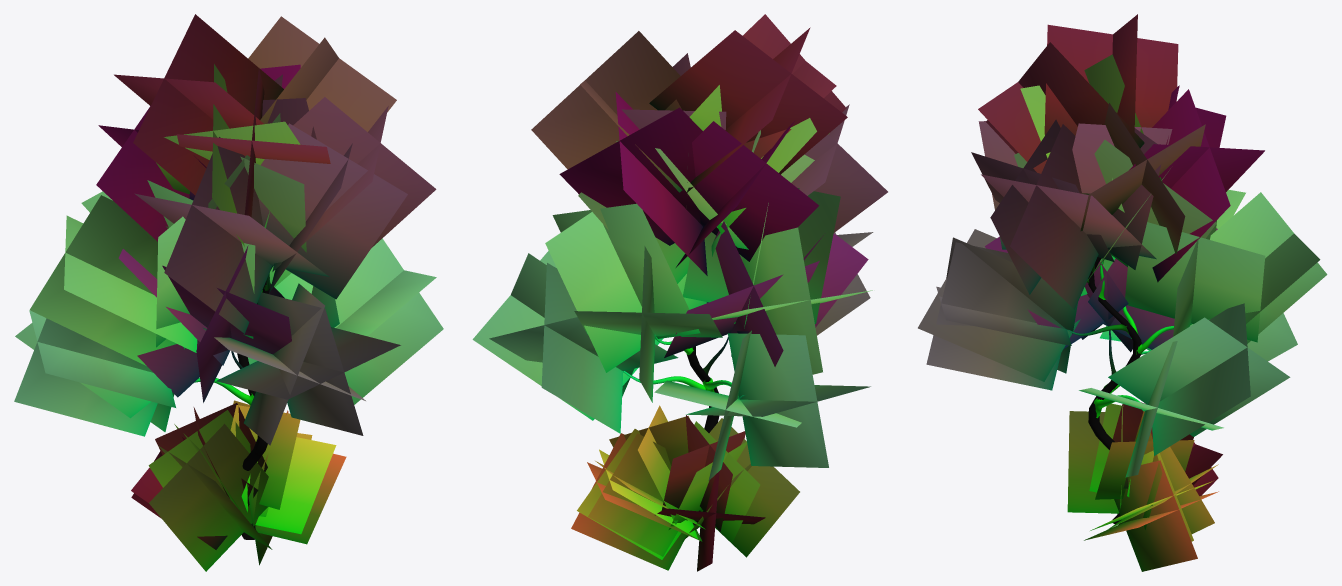
The model's file is URP_P12_Tree_3_LOD_0.fbx.
The picture shows the model from 3 angles, left to right: view 1: azimuth 30°, elevation 25°; view 2: azimuth 150°, elevation 25°; view 3: azimuth 270°, elevation 25°; orthographic projection. The views are drawn at different scales.
Visible parts, largest first — view 1: Tree_3_LOD_0; view 2: Tree_3_LOD_0; view 3: Tree_3_LOD_0.
Boxes of the visible parts, box(x1,y1,x2,y2) form: Tree_3_LOD_0: box(14, 14, 443, 571); Tree_3_LOD_0: box(472, 14, 887, 571); Tree_3_LOD_0: box(918, 14, 1327, 571).
Size of the model in its own units: 203 by 281 by 198.
